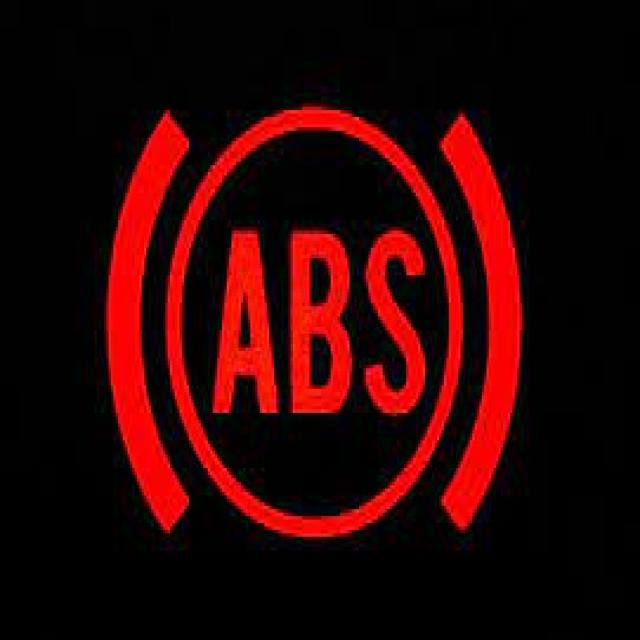kontrolka: (85, 80, 562, 563)
